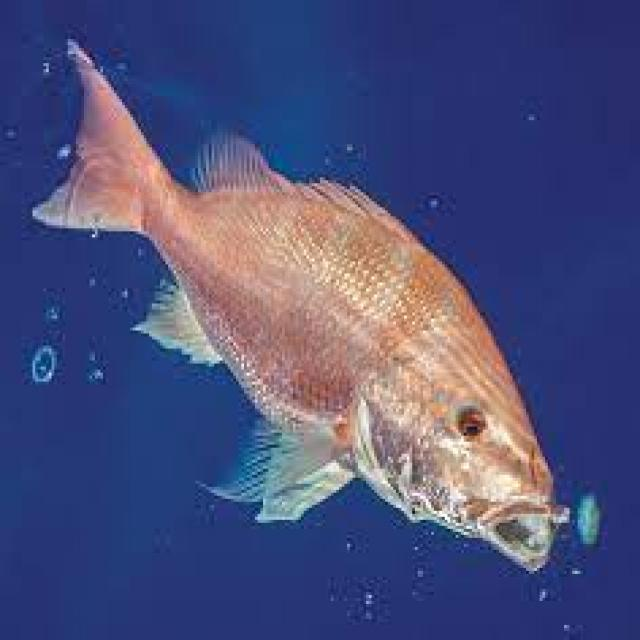northern-red-snapper: (31, 26, 579, 582)
